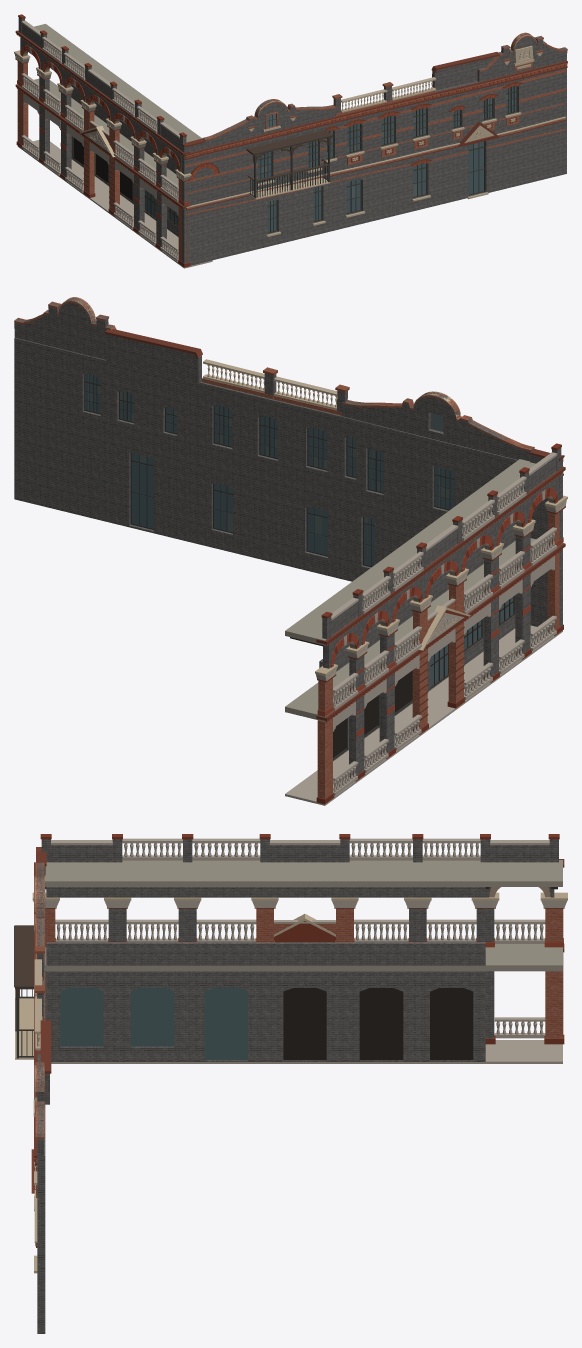
The model's file is far.glb.
3 views of the same model, one above another, from view 1: azimuth 30°, elevation 25°; view 2: azimuth 150°, elevation 25°; view 3: azimuth 270°, elevation 25° (orthographic). The views are drawn at different scales.
Visible parts, largest first — view 1: 原南林师范学校旧址; view 2: 原南林师范学校旧址; view 3: 原南林师范学校旧址.
Part boxes in pixels (bbox=[...]): 原南林师范学校旧址: bbox=[14, 14, 567, 268]; 原南林师范学校旧址: bbox=[14, 297, 567, 805]; 原南林师范学校旧址: bbox=[14, 834, 567, 1333].
Size of the model in its own units: 29.78 by 11.11 by 23.5.
Materials: 24 (2 with a texture image).
